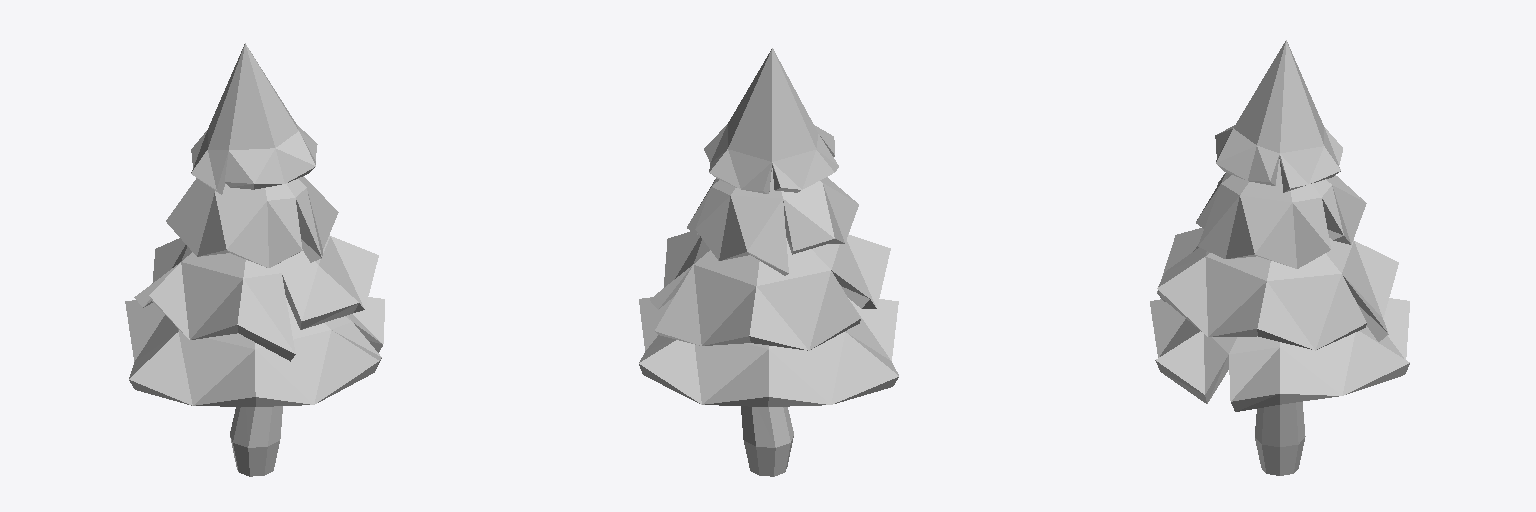
File: tree_pine_orange_large.obj
The picture shows the model from 3 angles: view 1: azimuth 30°, elevation 25°; view 2: azimuth 150°, elevation 25°; view 3: azimuth 270°, elevation 25°; orthographic projection.
Parts seen in each view (by area): view 1: tree_pine_orange_large_Cube.074; view 2: tree_pine_orange_large_Cube.074; view 3: tree_pine_orange_large_Cube.074.
Boxes of the visible parts, <box> form: tree_pine_orange_large_Cube.074: <box>125,43,384,476</box>; tree_pine_orange_large_Cube.074: <box>639,48,898,476</box>; tree_pine_orange_large_Cube.074: <box>1150,40,1409,475</box>.
Size of the model in its own units: 4.76 by 7.48 by 4.15.